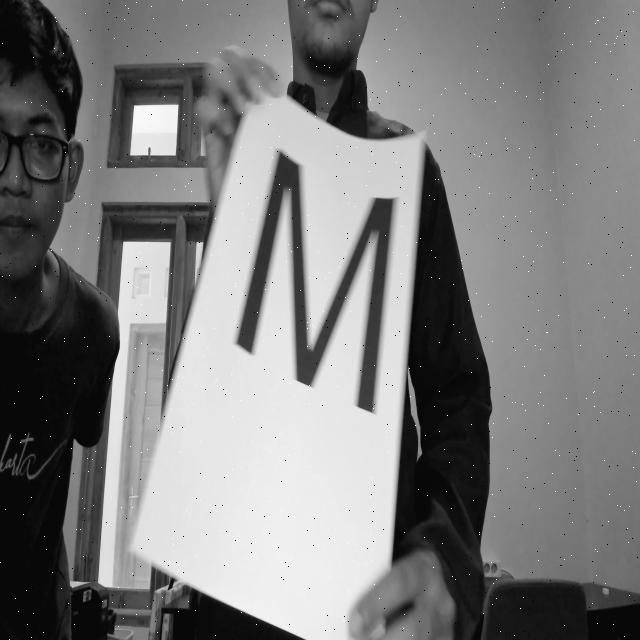m: (225, 132, 406, 434)
